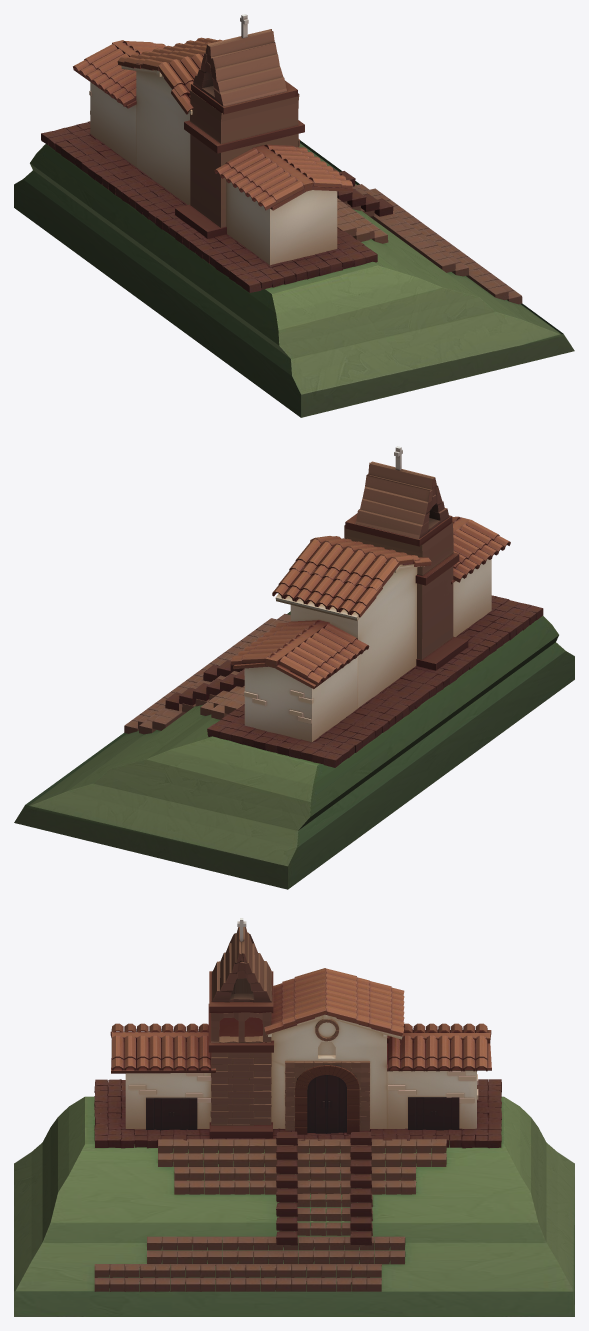
File: iglesia-san-antonio.glb
The picture shows the model from 3 angles, top to bottom: view 1: azimuth 30°, elevation 25°; view 2: azimuth 150°, elevation 25°; view 3: azimuth 270°, elevation 25°; orthographic projection. The views are drawn at different scales.
Parts seen in each view (by area): view 1: cesped, edificio, ladrillos piso, Tejas 1, ladrillso torre, ladrillos escalera 2, techo torre, Detalles torre, LADRILLOS ESCALERA; view 2: cesped, edificio, Tejas 1, ladrillos piso, techo torre, ladrillso torre, ladrillos escalera 2, Detalles torre, LADRILLOS ESCALERA; view 3: cesped, ladrillos escalera 2, Tejas 1, edificio, ladrillos piso, puertas, ladrillso torre, LADRILLOS ESCALERA, Detalles torre, techo torre, detalles prencipal, arco puerta (+1 smaller).
Boxes of the visible parts, x1,y1,x2,y2 form: cesped: (14, 140, 574, 417); edificio: (90, 65, 337, 265); ladrillos piso: (41, 121, 377, 292); Tejas 1: (73, 37, 353, 210); ladrillso torre: (190, 90, 300, 227); ladrillos escalera 2: (337, 184, 522, 304); techo torre: (193, 29, 286, 106); Detalles torre: (175, 80, 304, 238); LADRILLOS ESCALERA: (332, 167, 393, 216); cesped: (14, 611, 574, 889); edificio: (244, 546, 491, 742); Tejas 1: (230, 516, 510, 689); ladrillos piso: (207, 595, 543, 767); techo torre: (355, 461, 449, 538); ladrillso torre: (344, 522, 453, 659); ladrillos escalera 2: (124, 614, 290, 734); Detalles torre: (345, 513, 468, 670); LADRILLOS ESCALERA: (165, 660, 244, 710); cesped: (14, 1096, 574, 1316); ladrillos escalera 2: (94, 1139, 446, 1291); Tejas 1: (110, 968, 491, 1073); edificio: (125, 1014, 476, 1129); ladrillos piso: (94, 1079, 501, 1148); puertas: (146, 1064, 459, 1133); ladrillso torre: (210, 1012, 271, 1125); LADRILLOS ESCALERA: (276, 1131, 371, 1245); Detalles torre: (208, 971, 273, 1138); techo torre: (211, 927, 272, 1002); detalles prencipal: (285, 1019, 370, 1130); arco puerta: (295, 1065, 359, 1134).
Bounding box in the file's own units: 26.87 × 27.33 × 46.96.
Materials: 14 (14 with a texture image).
